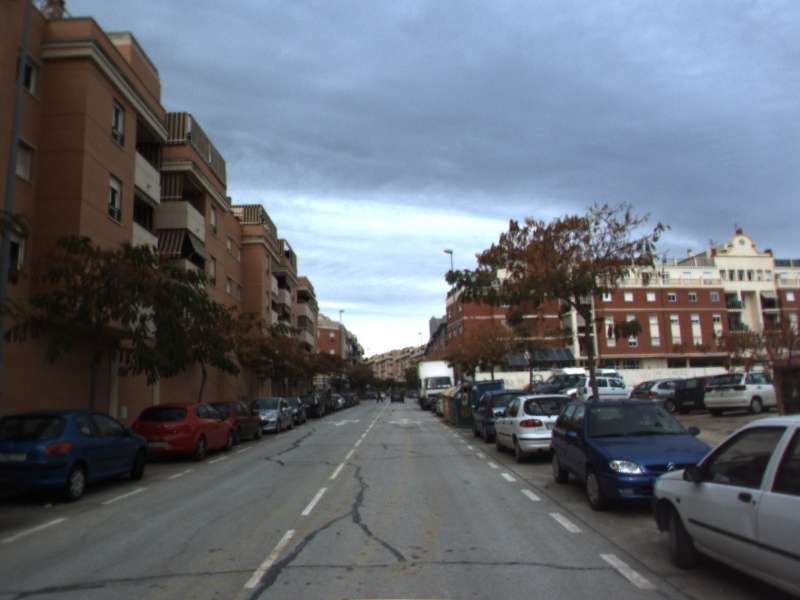STRAIGHT_LEFT_RIGHT: (385, 415, 426, 427)
